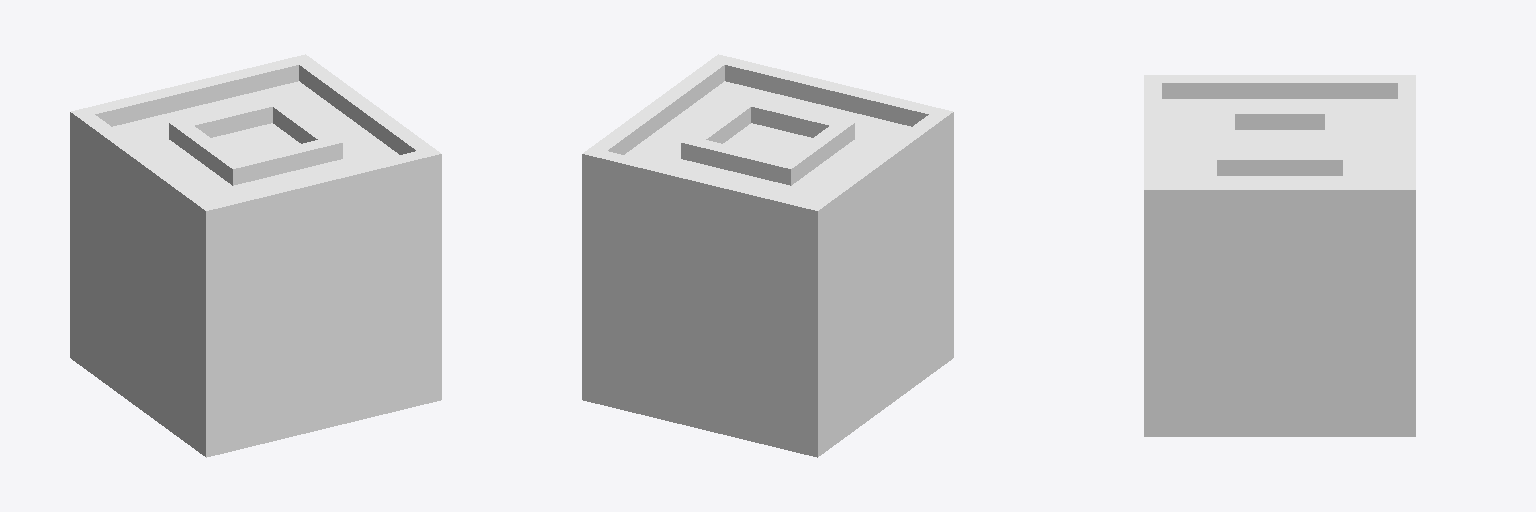
The model's file is Sandstone_Wall.obj.
3 views of the same model, side by side, from view 1: azimuth 30°, elevation 25°; view 2: azimuth 150°, elevation 25°; view 3: azimuth 270°, elevation 25° (orthographic).
Bounding box in the file's own units: 15 × 15 × 15.